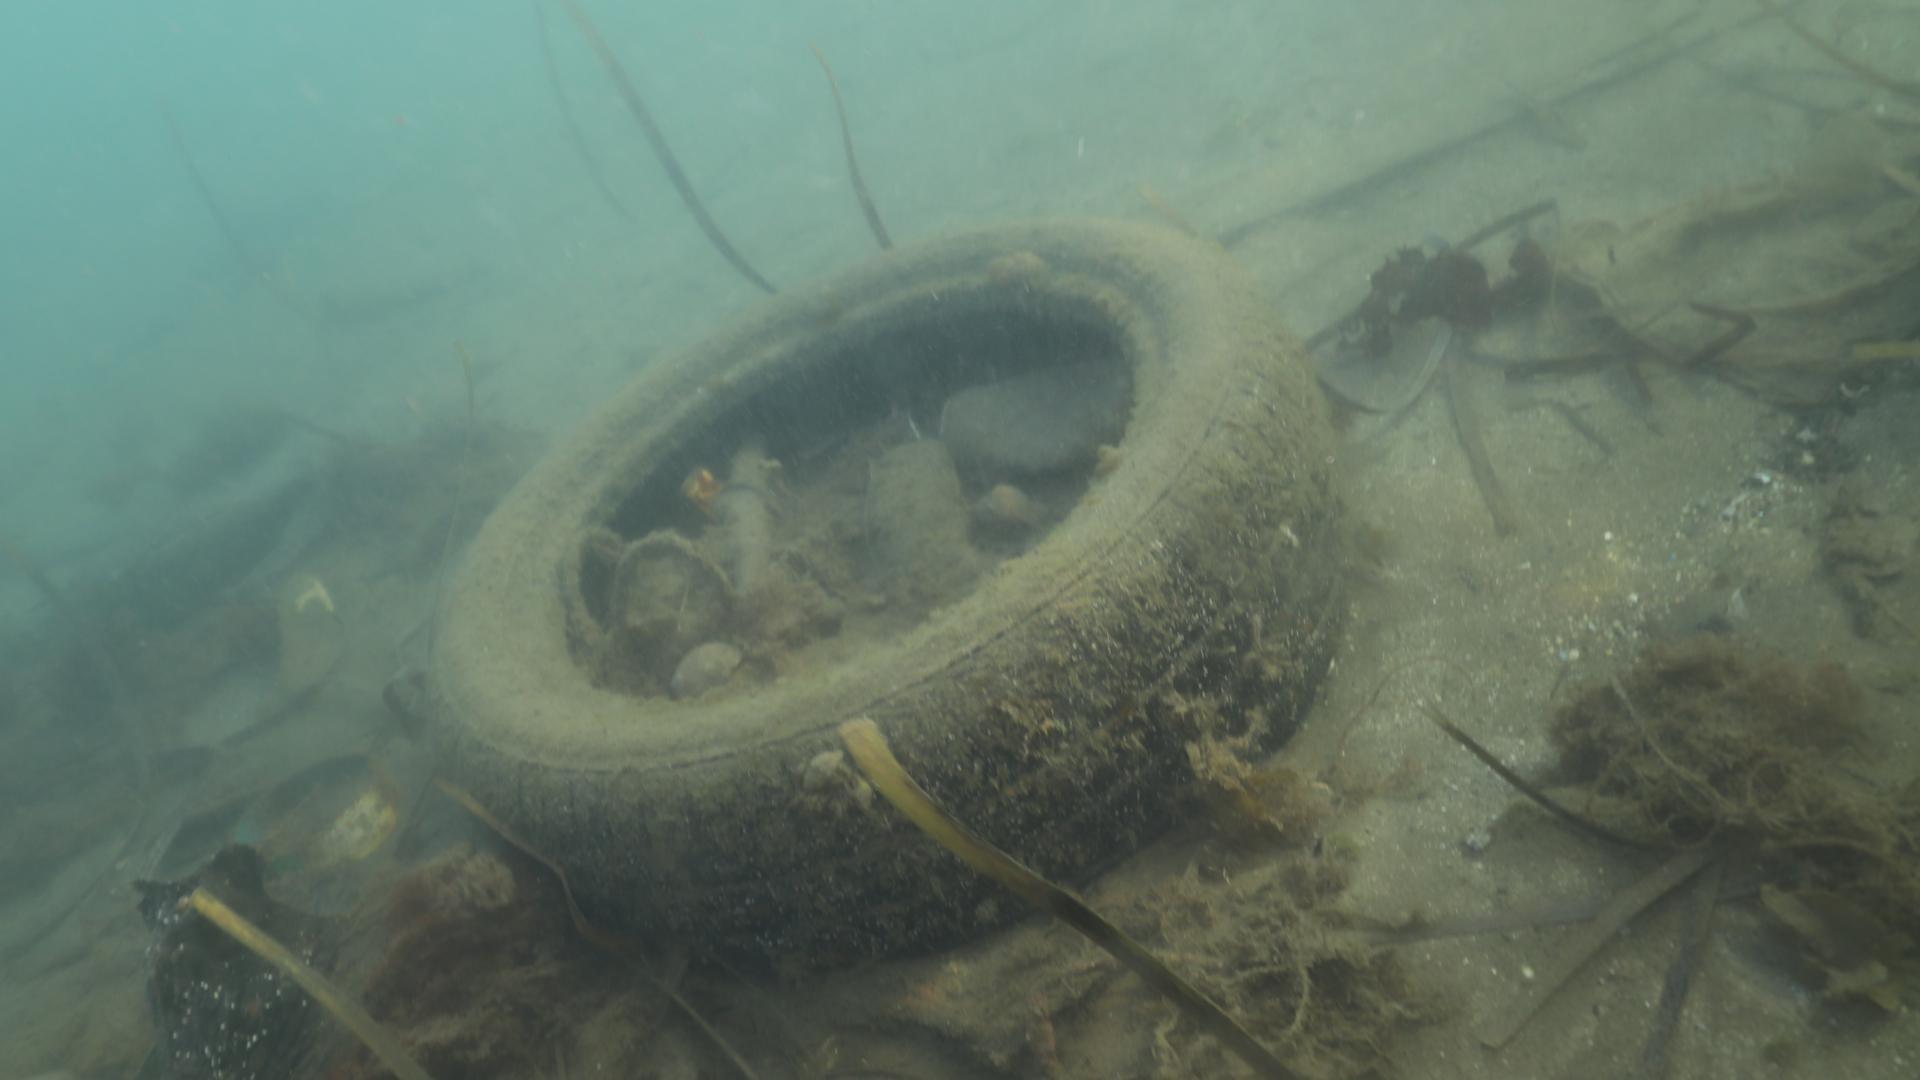tire: (429, 208, 1360, 989)
